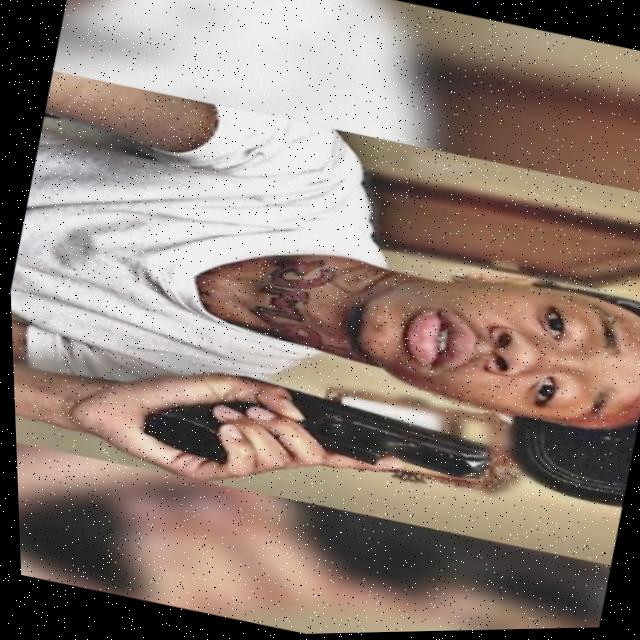pistol: (206, 367, 501, 498)
